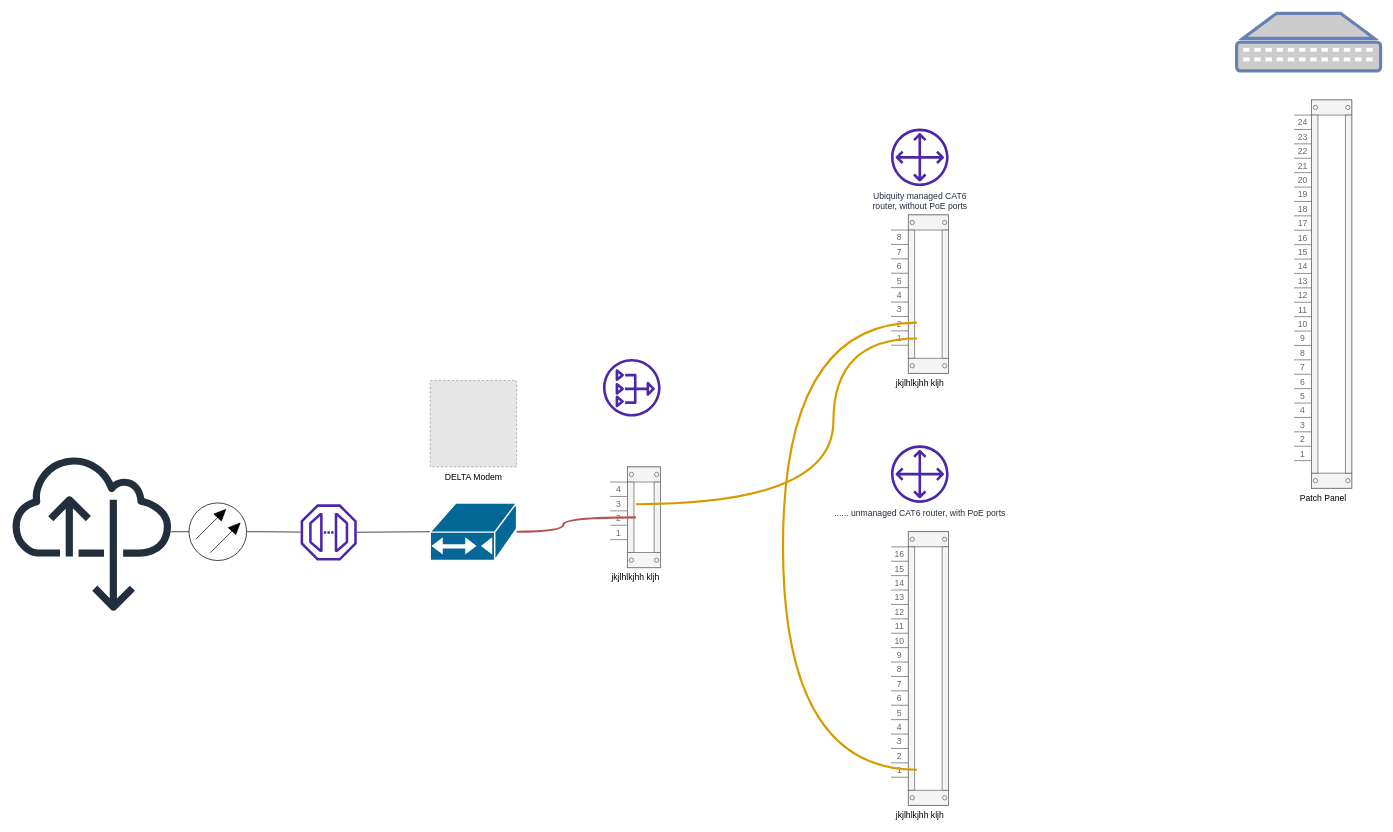
Some shapes in this 1393 by 832 pixel diagram are drawn without their labels. Grey dashed boxes stand in for pictures. Each missing label, with the box of its shape:
..... CAT6 patch panekl: (1236, 12, 1381, 71)
Delta End Point PtP, Point to Point FIber: (300, 504, 356, 560)
Ubiquity USG: (603, 359, 660, 416)
